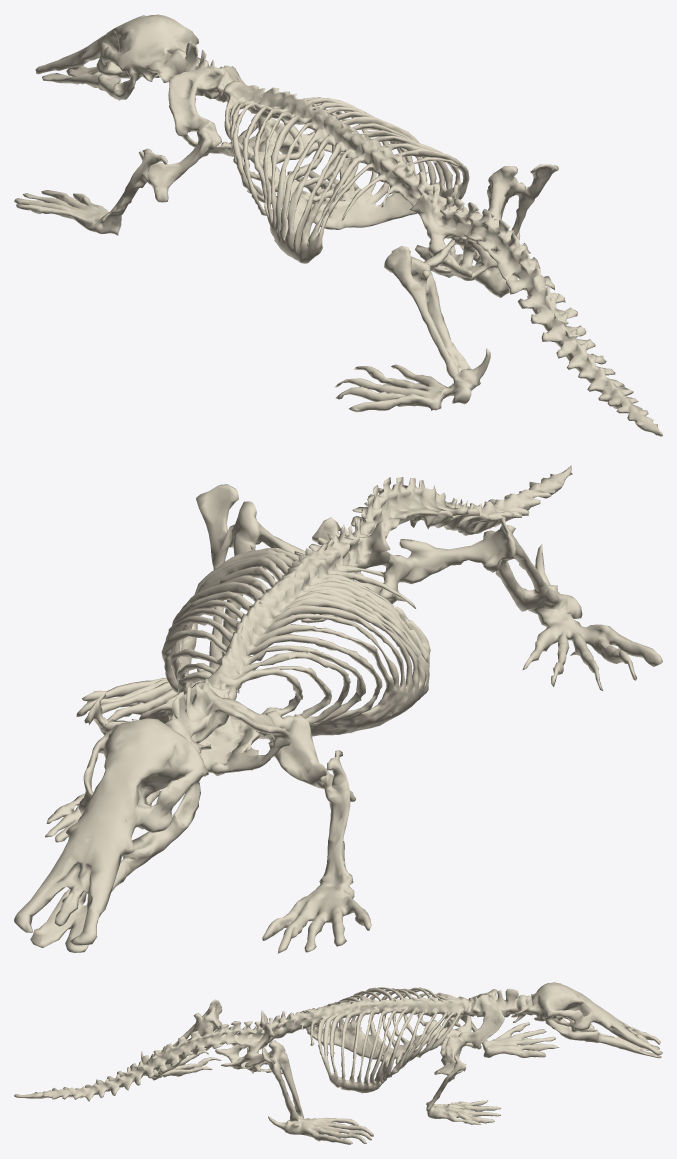
File: skeleton.glb
3 renders of one model, top to bottom at view 1: azimuth 30°, elevation 25°; view 2: azimuth 150°, elevation 25°; view 3: azimuth 270°, elevation 25°, orthographic. The views are drawn at different scales.
Visible parts, largest first — view 1: Ornithorynque_LOD0_StaticEvaluated; view 2: Ornithorynque_LOD0_StaticEvaluated; view 3: Ornithorynque_LOD0_StaticEvaluated.
Boxes of the visible parts, box(x1,y1,x2,y2) form: Ornithorynque_LOD0_StaticEvaluated: box(14, 14, 662, 436); Ornithorynque_LOD0_StaticEvaluated: box(14, 465, 662, 953); Ornithorynque_LOD0_StaticEvaluated: box(14, 982, 662, 1144).
Size of the model in its own units: 9.45 by 3.98 by 22.82.
